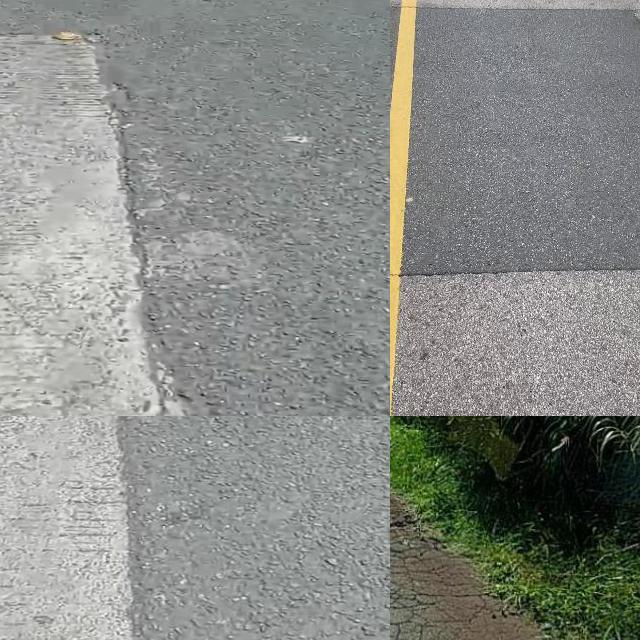Sambungan: (0, 24, 189, 416), (390, 6, 640, 281), (0, 416, 135, 640)
